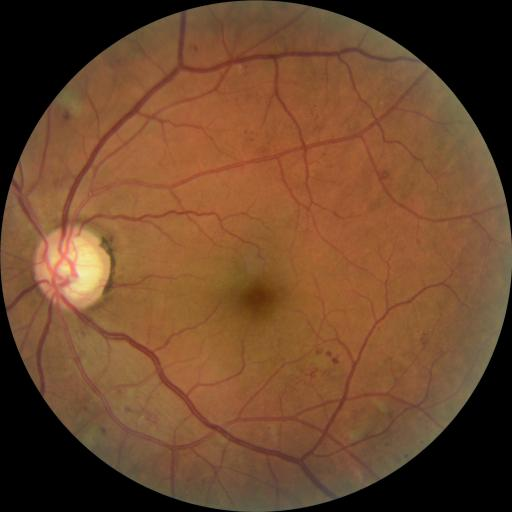Optic Cup: (53, 237, 102, 296)
Optic Disc: (34, 223, 111, 310)
